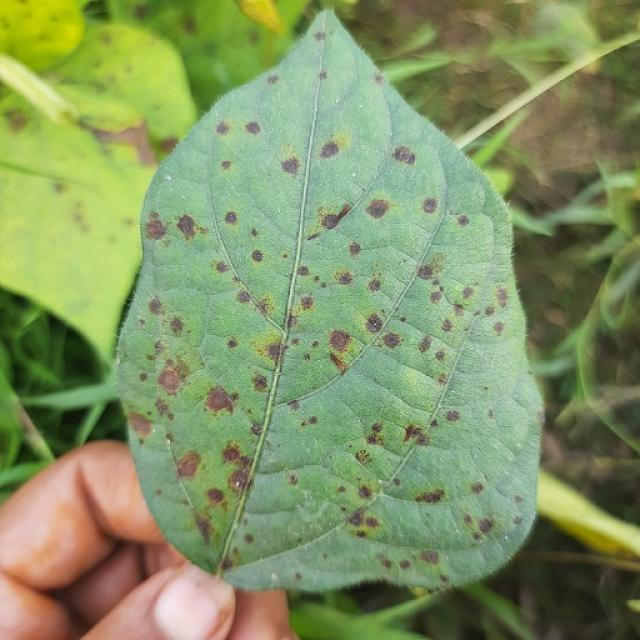Anthracnose: (215, 262, 383, 408), (131, 309, 216, 432), (217, 441, 257, 498), (306, 203, 354, 242), (249, 330, 288, 368), (203, 384, 237, 416), (274, 150, 305, 178), (157, 364, 184, 395), (191, 513, 215, 546), (127, 411, 155, 439), (176, 451, 203, 480), (175, 213, 202, 241), (69, 200, 92, 232), (144, 215, 168, 242), (327, 329, 352, 353), (227, 467, 250, 493), (364, 198, 391, 220), (5, 108, 29, 132), (391, 145, 416, 166), (413, 489, 445, 504), (402, 424, 424, 444), (280, 156, 300, 176), (364, 313, 384, 333), (347, 508, 367, 528), (319, 140, 340, 159), (380, 332, 402, 349), (205, 487, 224, 505), (251, 373, 269, 392), (329, 352, 347, 371), (168, 316, 185, 336), (147, 296, 164, 316), (322, 213, 342, 230), (354, 449, 372, 466), (420, 549, 440, 564), (282, 311, 296, 332), (421, 197, 438, 214), (477, 517, 494, 534), (335, 269, 353, 285), (417, 336, 433, 354), (495, 287, 508, 308), (299, 295, 315, 311), (244, 120, 261, 135), (417, 265, 434, 280), (133, 4, 150, 19), (215, 120, 231, 135), (300, 415, 318, 428), (236, 289, 251, 304), (357, 485, 373, 499), (250, 249, 264, 264), (348, 241, 362, 256), (367, 278, 381, 293), (214, 260, 229, 274), (224, 211, 238, 225), (444, 410, 460, 422), (429, 291, 443, 304), (470, 481, 484, 494), (221, 556, 233, 571), (440, 319, 453, 332), (250, 423, 263, 436), (53, 181, 67, 193), (456, 215, 469, 227), (297, 266, 310, 277), (493, 321, 504, 334), (313, 31, 326, 42), (398, 559, 411, 570), (220, 160, 232, 171), (227, 337, 238, 349), (267, 74, 279, 85), (374, 73, 385, 85), (243, 532, 254, 543), (452, 302, 465, 311), (512, 516, 523, 526), (318, 71, 328, 81), (294, 572, 302, 581), (154, 488, 162, 496)
Blackgram: (116, 12, 542, 590)
